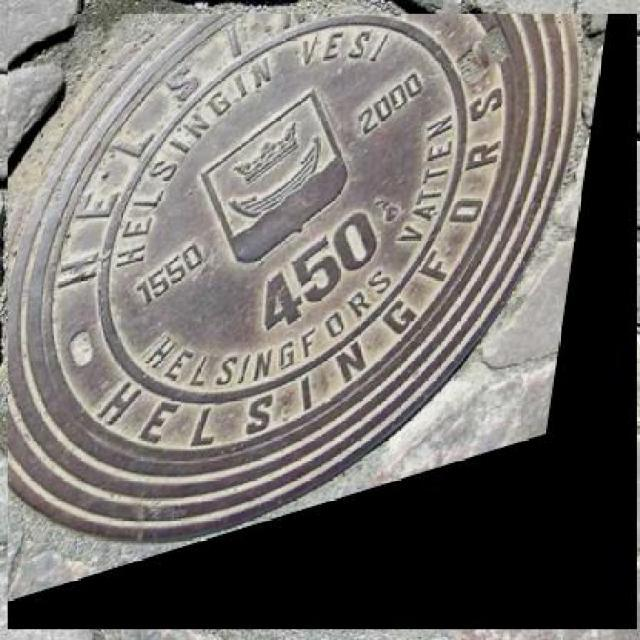Manhole: (8, 14, 637, 630)
